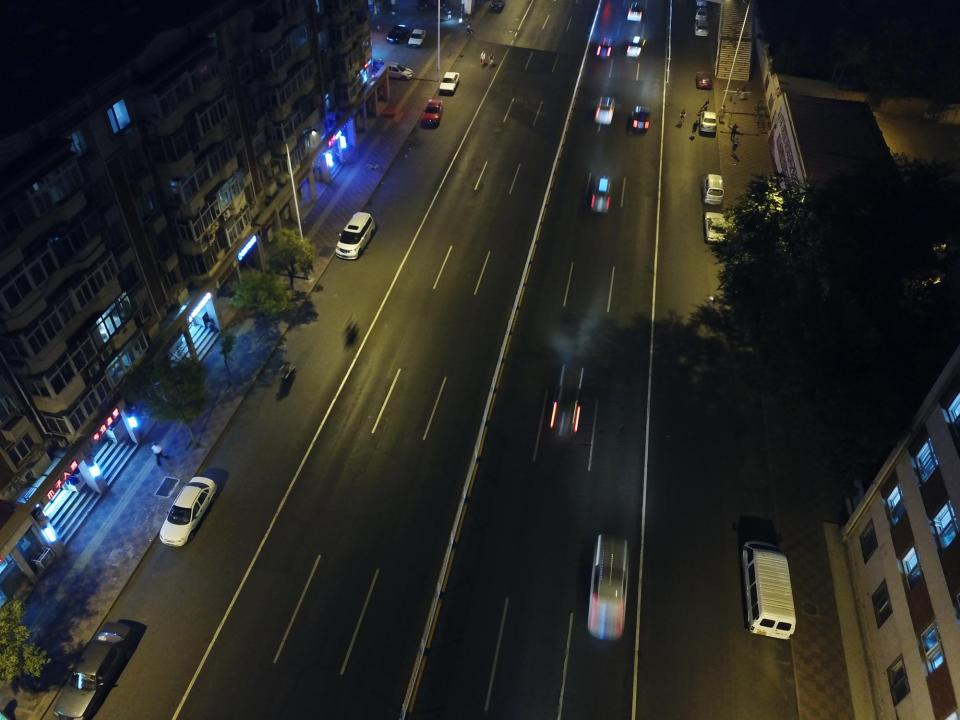car: (48, 621, 135, 718), (154, 477, 218, 550), (552, 364, 586, 435), (588, 173, 613, 214), (385, 60, 414, 82), (705, 212, 726, 242), (631, 104, 651, 133), (421, 99, 444, 123), (597, 96, 615, 126), (439, 72, 460, 93), (627, 34, 645, 57), (387, 23, 408, 42), (700, 112, 717, 134), (692, 18, 710, 38), (626, 2, 644, 22), (596, 36, 613, 57), (696, 70, 714, 89), (409, 29, 428, 46), (695, 8, 708, 18), (696, 1, 711, 6)
van: (743, 541, 795, 644), (590, 536, 625, 640), (334, 210, 376, 260), (702, 173, 725, 205)
